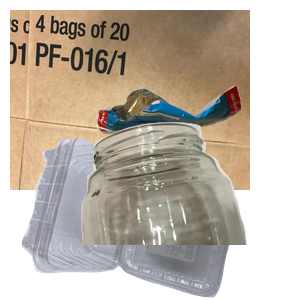cardboard: (10, 10, 250, 190)
glass: (74, 120, 300, 300)
plastic: (19, 139, 249, 300)
trash: (94, 83, 300, 210)
